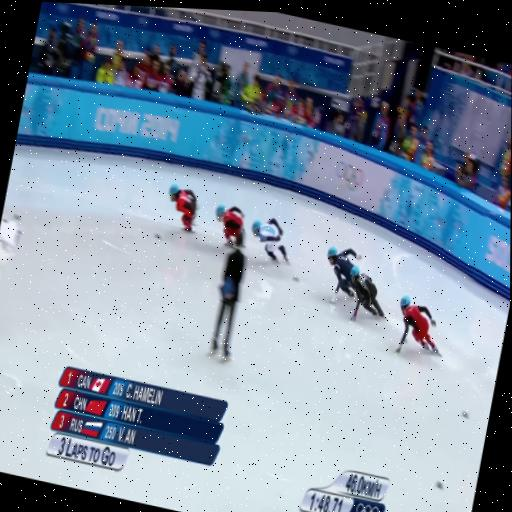Skater: (396, 296, 439, 355), (327, 248, 361, 304), (350, 266, 384, 321), (252, 218, 289, 264), (170, 185, 198, 232), (215, 206, 244, 246)
